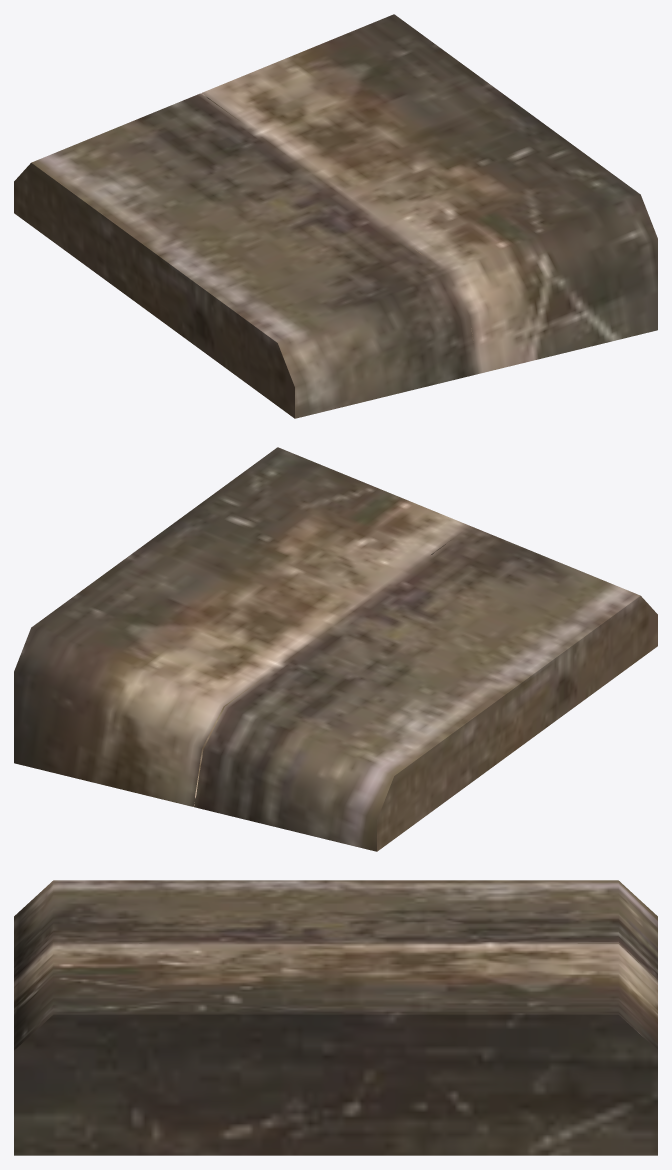
The picture shows the model from 3 angles, top to bottom: view 1: azimuth 30°, elevation 25°; view 2: azimuth 150°, elevation 25°; view 3: azimuth 270°, elevation 25°; orthographic projection. The views are drawn at different scales.
Visible parts, largest first — view 1: SM_SaradominTemple_Roof_Plank_01_v3_LOD0; view 2: SM_SaradominTemple_Roof_Plank_01_v3_LOD0; view 3: SM_SaradominTemple_Roof_Plank_01_v3_LOD0.
Boxes of the visible parts, x1,y1,x2,y2 form: SM_SaradominTemple_Roof_Plank_01_v3_LOD0: (14,14,657,418); SM_SaradominTemple_Roof_Plank_01_v3_LOD0: (14,447,657,851); SM_SaradominTemple_Roof_Plank_01_v3_LOD0: (14,880,657,1155).
Bounding box in the file's own units: 0.4405 × 0.1427 × 0.5904.
